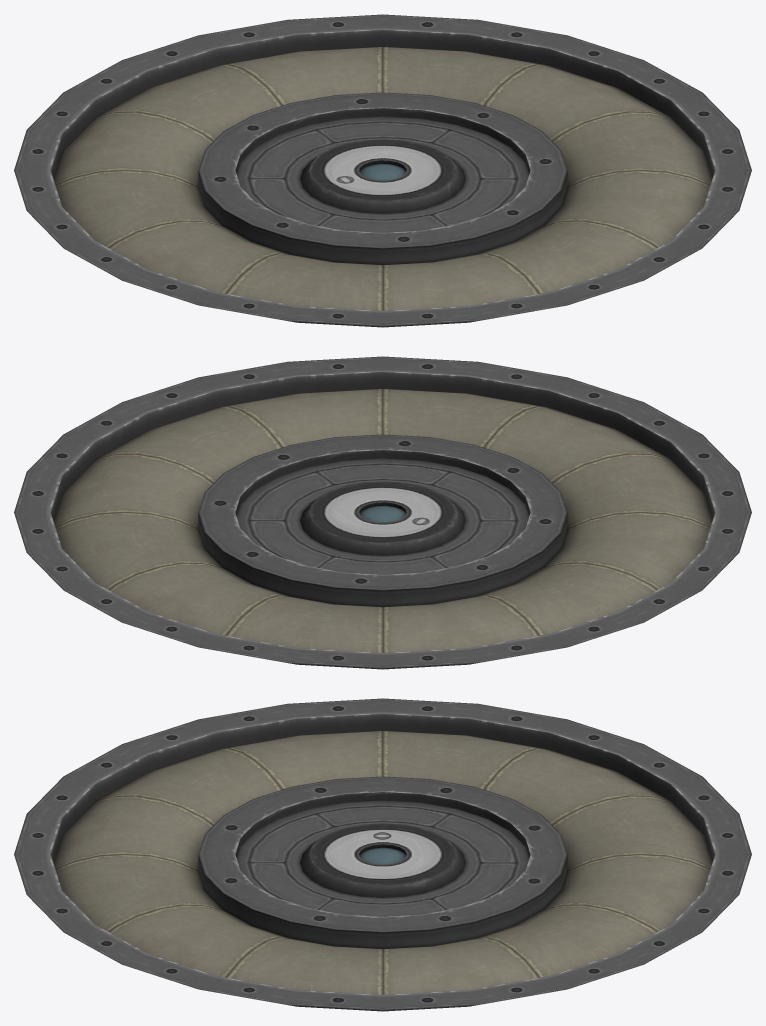
File: end_crew_s2_2.obj
3 renders of one model, top to bottom at view 1: azimuth 30°, elevation 25°; view 2: azimuth 150°, elevation 25°; view 3: azimuth 270°, elevation 25°, orthographic.
Parts seen in each view (by area): view 1: end; view 2: end; view 3: end.
Part boxes in pixels (box(x1,y1,x2,y2)): end: box(14, 14, 751, 327); end: box(14, 356, 751, 669); end: box(14, 698, 751, 1011).
Bounding box in the file's own units: 2.5 × 0.0625 × 2.5.
